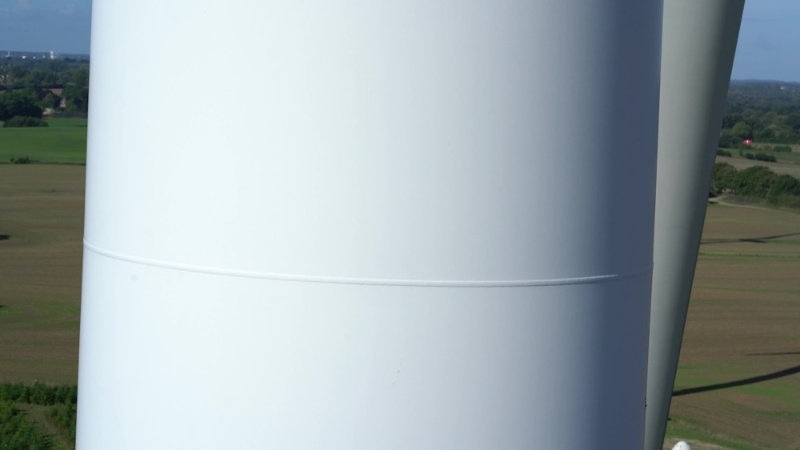weldseam: (77, 234, 656, 290)
